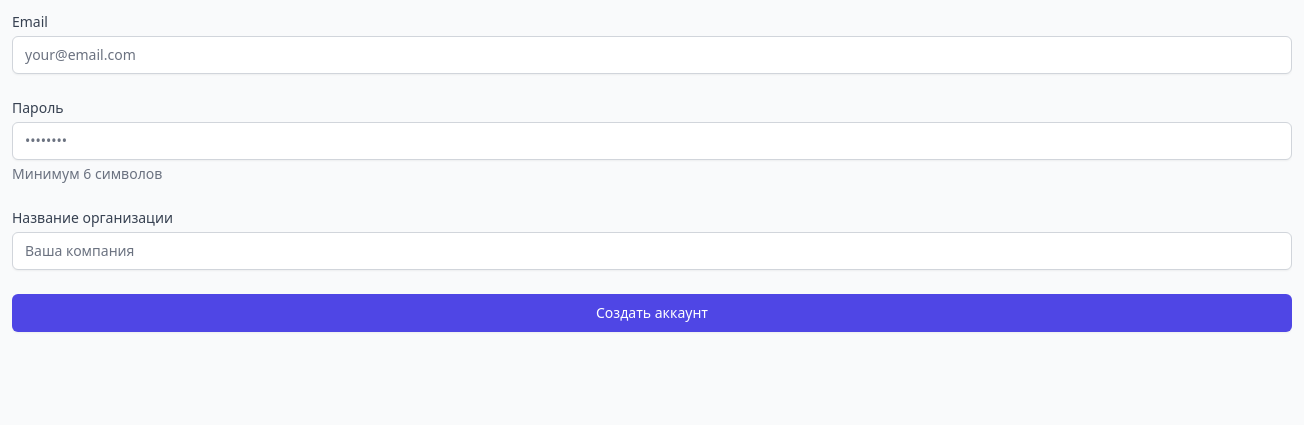
SignupForm › should clear error message when user starts typing
// Trigger error
Type "existing@example.com" into the field labelled "Email" at (652, 55), box x1=12 y1=36 x2=1292 y2=74
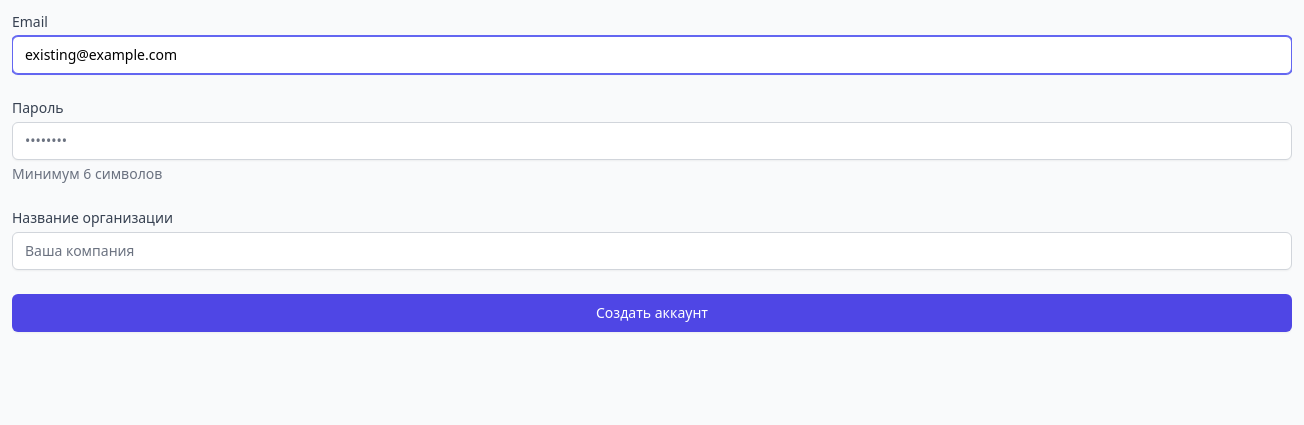
Type "password123" into the password field labelled "Пароль" at (652, 141), box x1=12 y1=122 x2=1292 y2=160
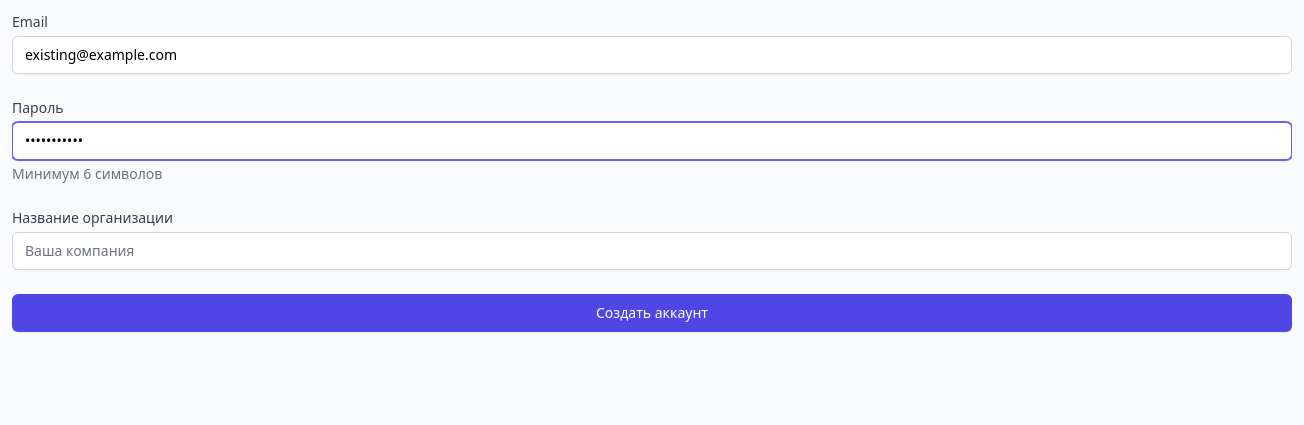
Type "Test Organization" into the field labelled "Название организации" at (652, 251), box x1=12 y1=232 x2=1292 y2=270
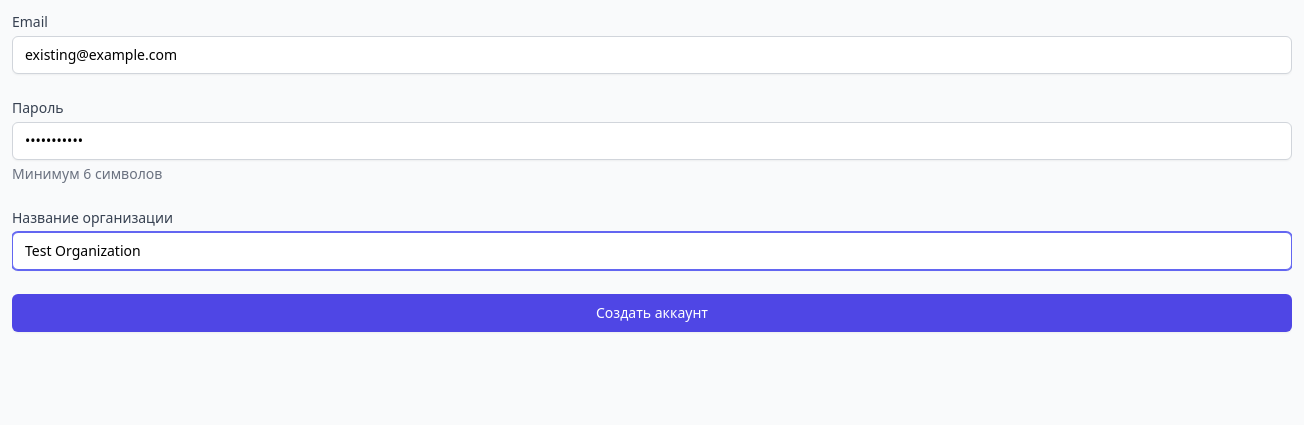
Click the button "Создать аккаунт" at (652, 313), box x1=12 y1=294 x2=1292 y2=332
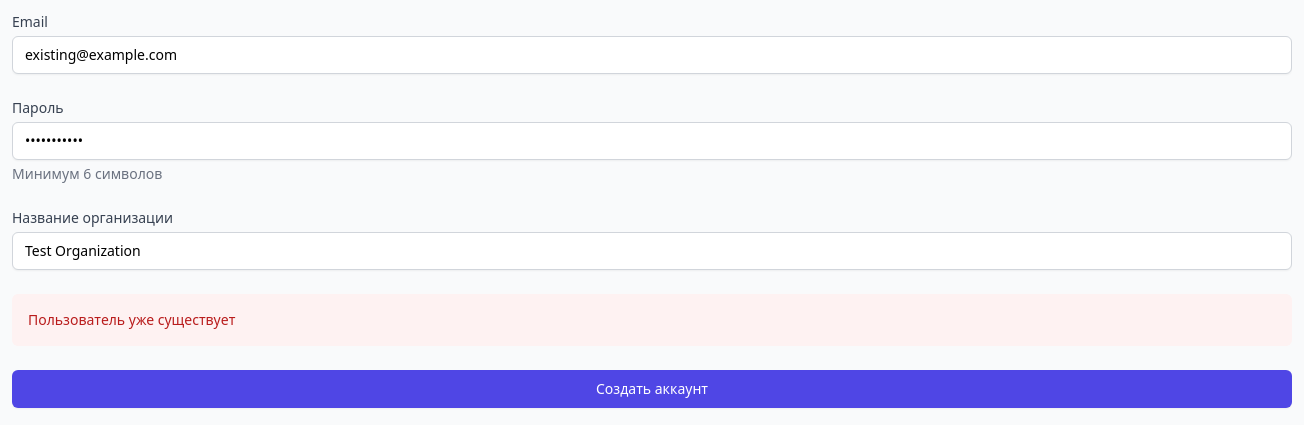
Check: the text "Пользователь уже существует" is shown, box x1=28 y1=310 x2=235 y2=329
// Start typing again
Type "a" into the field labelled "Email" at (652, 55), box x1=12 y1=36 x2=1292 y2=74
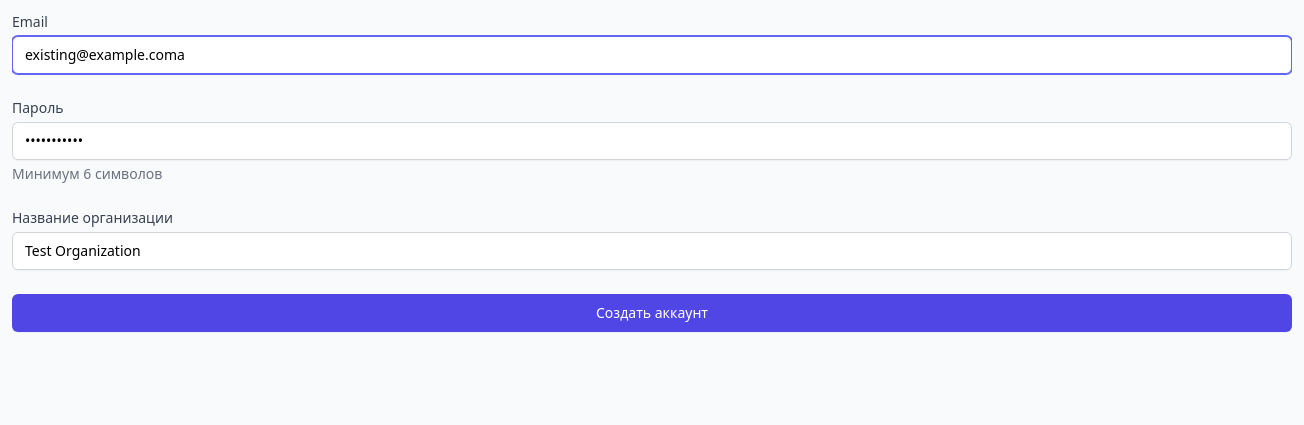
Check: the text "Пользователь уже существует" is gone
